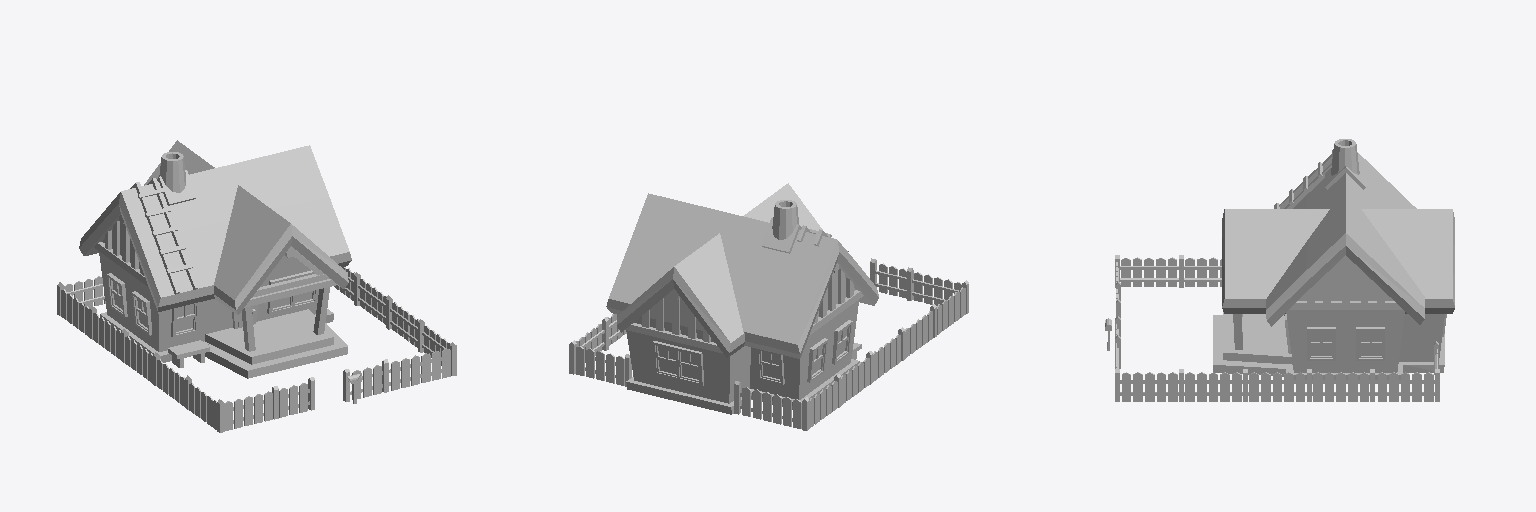
File: House_04.obj
3 renders of one model, left to right at view 1: azimuth 30°, elevation 25°; view 2: azimuth 150°, elevation 25°; view 3: azimuth 270°, elevation 25°, orthographic.
Visible parts, largest first — view 1: House_04; view 2: House_04; view 3: House_04.
Boxes of the visible parts, box(x1,y1,x2,y2) form: House_04: box(57, 140, 456, 432); House_04: box(569, 183, 968, 430); House_04: box(1105, 139, 1454, 401).
Bounding box in the file's own units: 613 × 434 × 784.